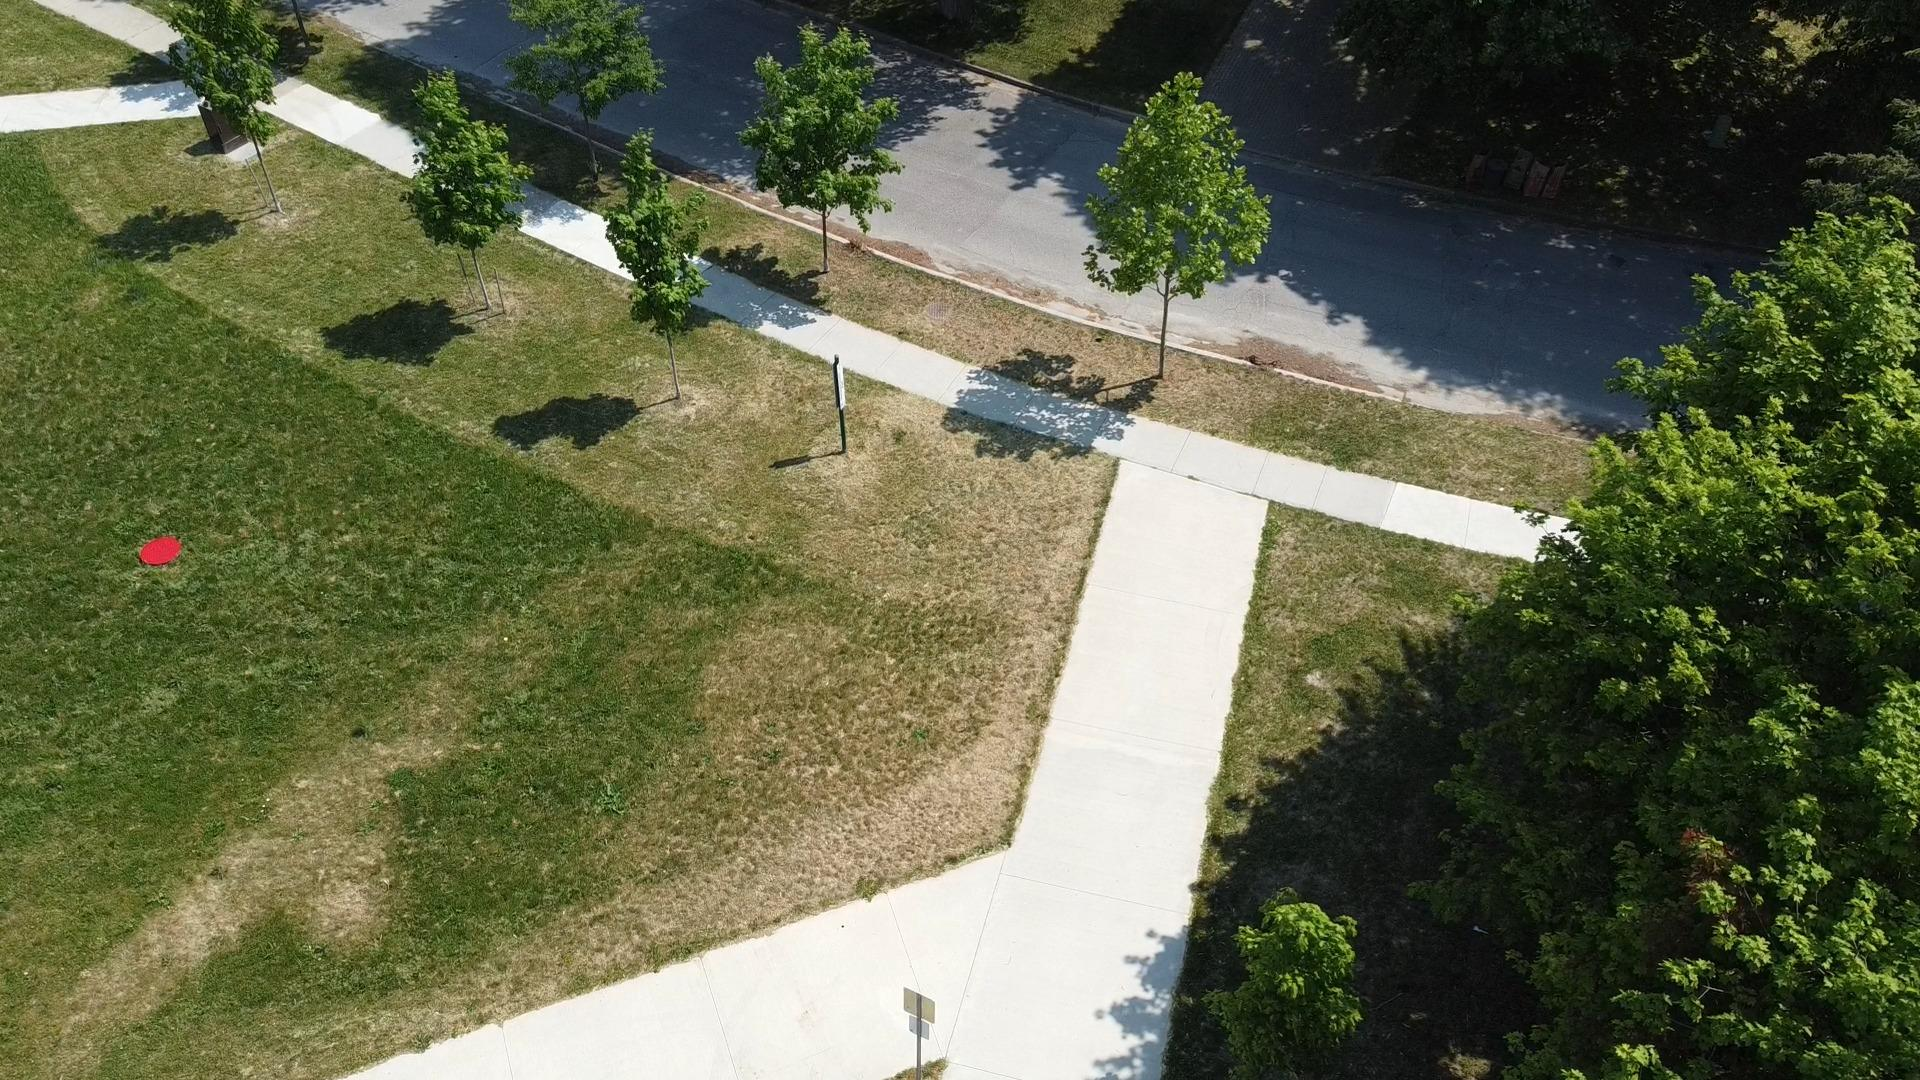Red: (140, 535, 183, 567)
